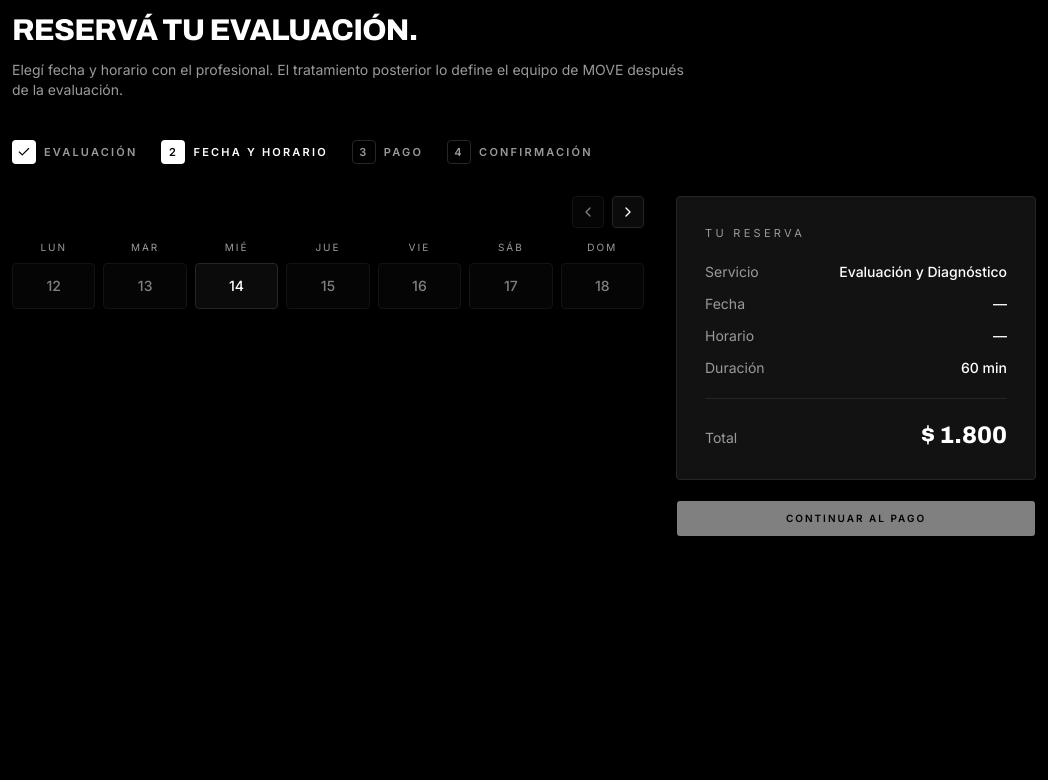
Test case: RehabBookingFlow › keeps the flow visible when a background refresh of /me fails for a signed-in client
Step 1. Click the button "14" → (236, 286), box left=195, top=263, right=278, bottom=309
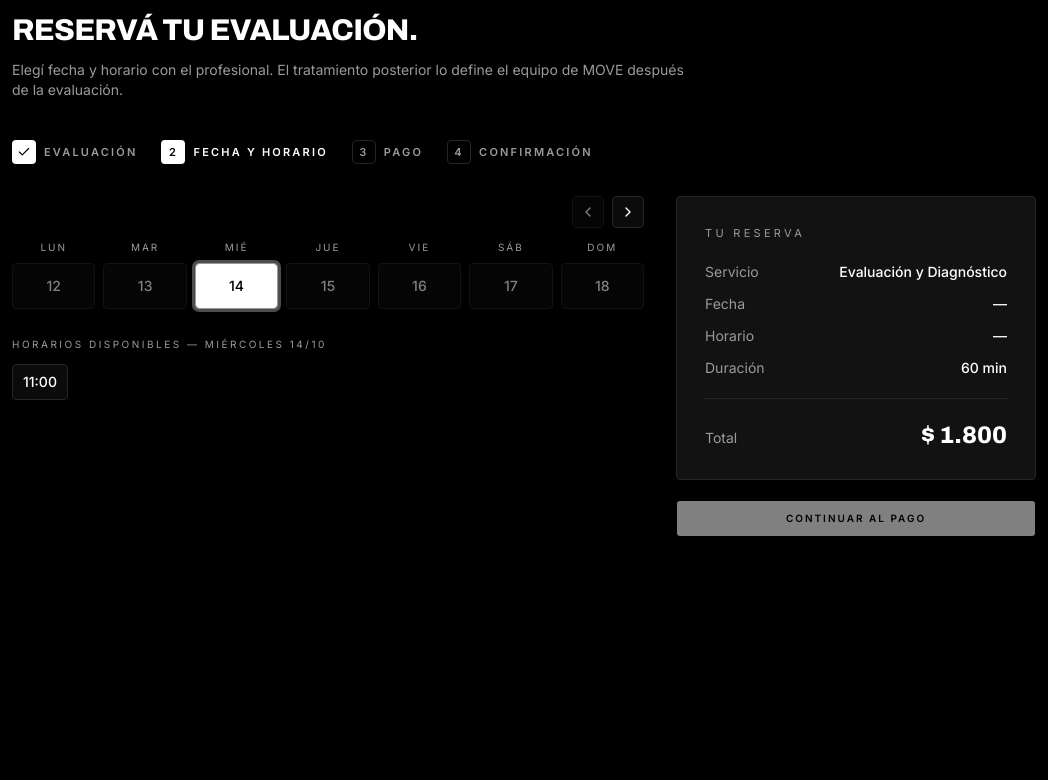
Step 2. Click the button "11:00" → (40, 382), box left=12, top=364, right=68, bottom=400
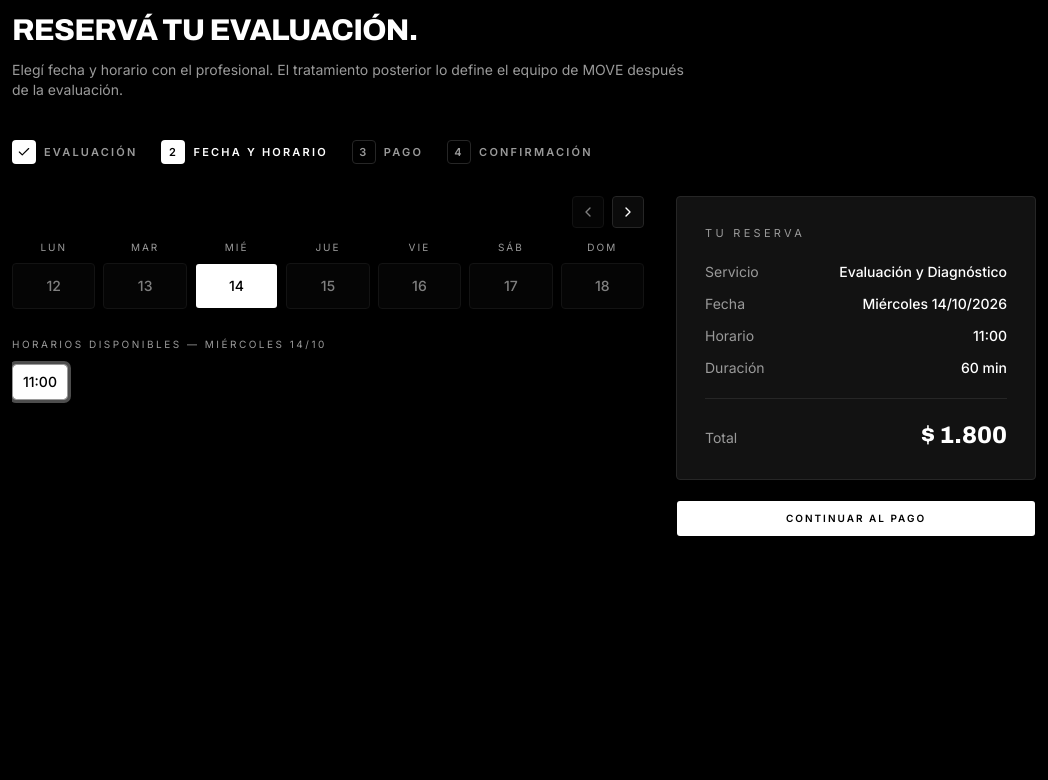
Expected: the button "Continuar al pago" is enabled, left=676, top=500, right=1036, bottom=536
